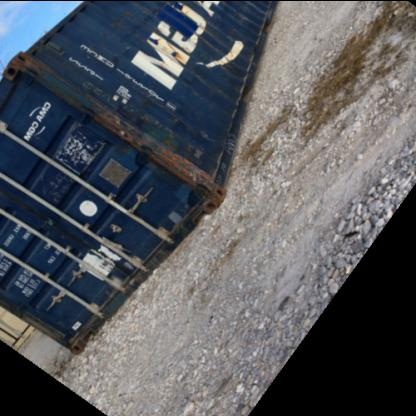Damage: (84, 98, 210, 188), (120, 3, 160, 44), (217, 38, 247, 84), (7, 48, 39, 86), (155, 39, 187, 65)
